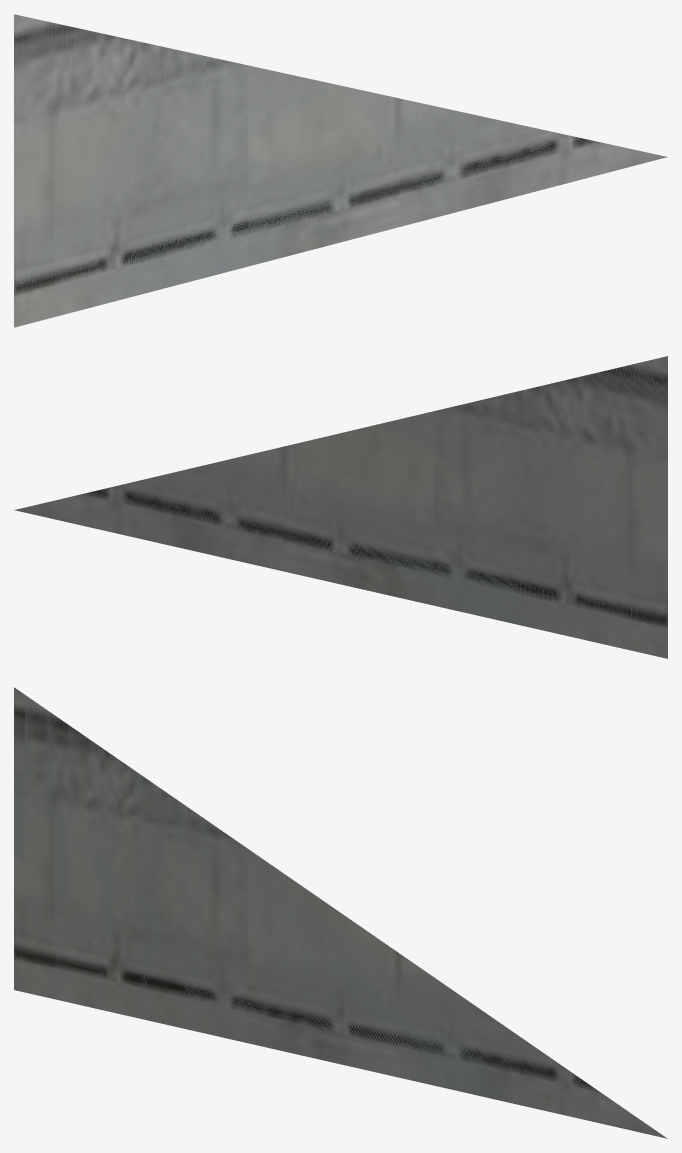
The model's file is 人民英雄纪念碑4.dae.
3 views of the same model, one above another, from view 1: azimuth 30°, elevation 25°; view 2: azimuth 150°, elevation 25°; view 3: azimuth 330°, elevation 25° (orthographic). The views are drawn at different scales.
Parts seen in each view (by area): view 1: SketchUp; view 2: SketchUp; view 3: SketchUp.
Boxes of the visible parts, bbox=[...] form: SketchUp: bbox=[14, 14, 667, 327]; SketchUp: bbox=[14, 356, 667, 658]; SketchUp: bbox=[14, 687, 667, 1138].
Bounding box in the file's own units: 157 × 4.67 × 70.87.
